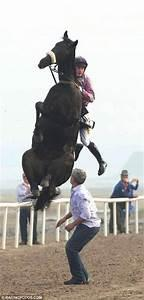horse: (15, 22, 84, 220)
